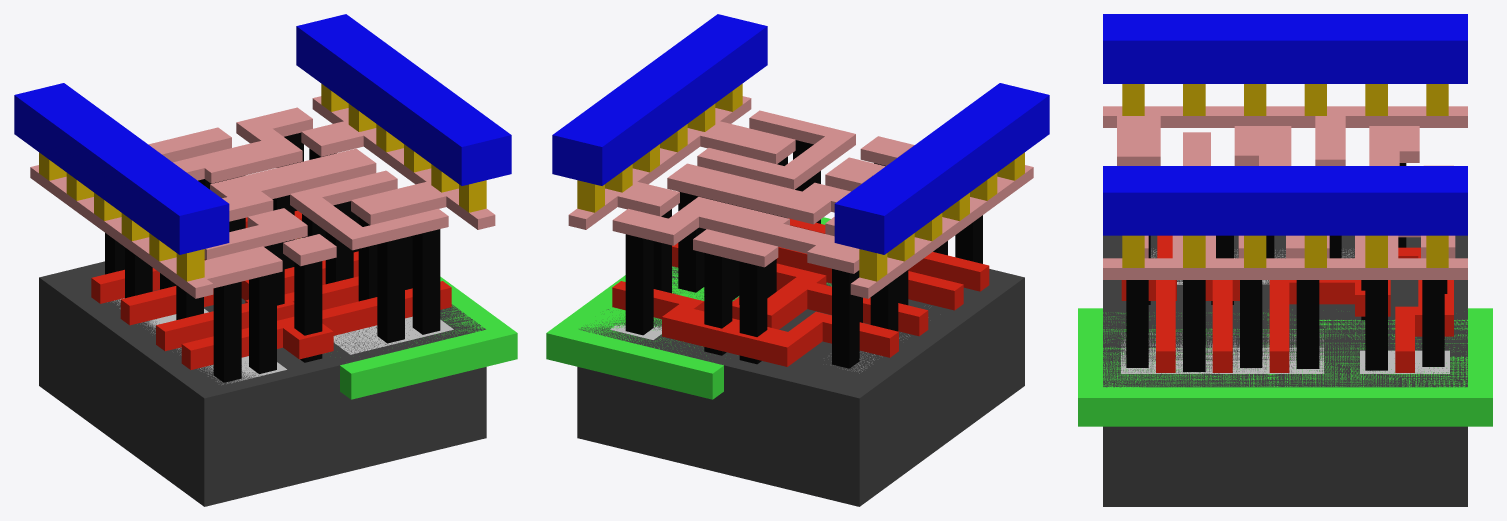
The model's file is sky130_fd_sc_hd__a21boi_1.obj.
The picture shows the model from 3 angles, left to right: view 1: azimuth 30°, elevation 25°; view 2: azimuth 150°, elevation 25°; view 3: azimuth 270°, elevation 25°; orthographic projection. The views are drawn at different scales.
Parts seen in each view (by area): view 1: subs, metal1, li, licon, poly, nwell, mcon, tap, diff; view 2: subs, metal1, li, poly, licon, nwell, mcon; view 3: metal1, subs, nwell, li, licon, poly, mcon, tap.
Part boxes in pixels (x1=…): subs: x1=39, y1=238, x2=486, y2=506; metal1: x1=14, y1=14, x2=511, y2=254; li: x1=30, y1=96, x2=495, y2=298; licon: x1=105, y1=132, x2=440, y2=382; poly: x1=91, y1=210, x2=451, y2=369; nwell: x1=340, y1=276, x2=517, y2=399; mcon: x1=39, y1=83, x2=486, y2=281; tap: x1=295, y1=238, x2=453, y2=354; diff: x1=113, y1=298, x2=286, y2=384; subs: x1=577, y1=266, x2=1024, y2=506; metal1: x1=552, y1=14, x2=1049, y2=254; li: x1=568, y1=96, x2=1033, y2=298; poly: x1=612, y1=218, x2=989, y2=366; licon: x1=625, y1=140, x2=982, y2=368; nwell: x1=546, y1=217, x2=831, y2=399; mcon: x1=577, y1=83, x2=1024, y2=281; metal1: x1=1103, y1=14, x2=1467, y2=235; subs: x1=1103, y1=235, x2=1467, y2=506; nwell: x1=1078, y1=308, x2=1492, y2=426; li: x1=1103, y1=106, x2=1467, y2=279; licon: x1=1126, y1=163, x2=1447, y2=371; poly: x1=1121, y1=235, x2=1453, y2=372; mcon: x1=1122, y1=84, x2=1448, y2=267; tap: x1=1121, y1=329, x2=1449, y2=373.
Size of the model in its own units: 3.2 by 2.74 by 3.14.
